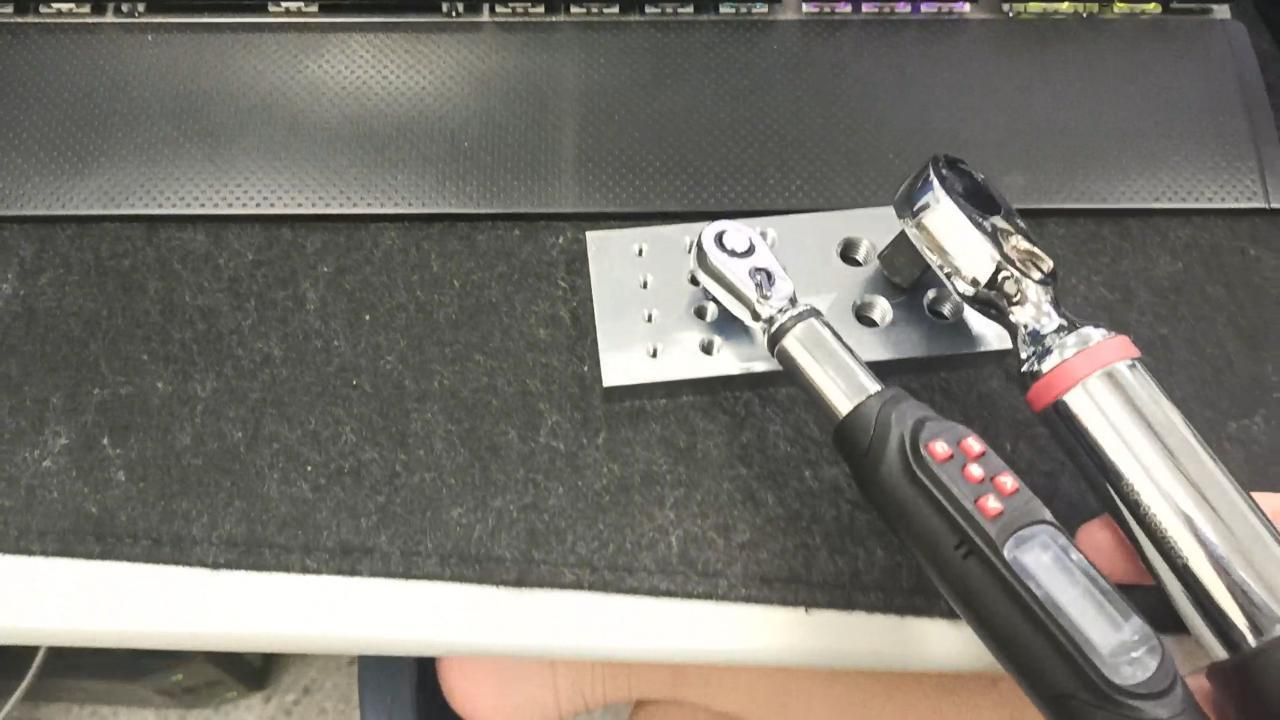Tool: (872, 155, 1102, 363), (688, 218, 812, 332)
